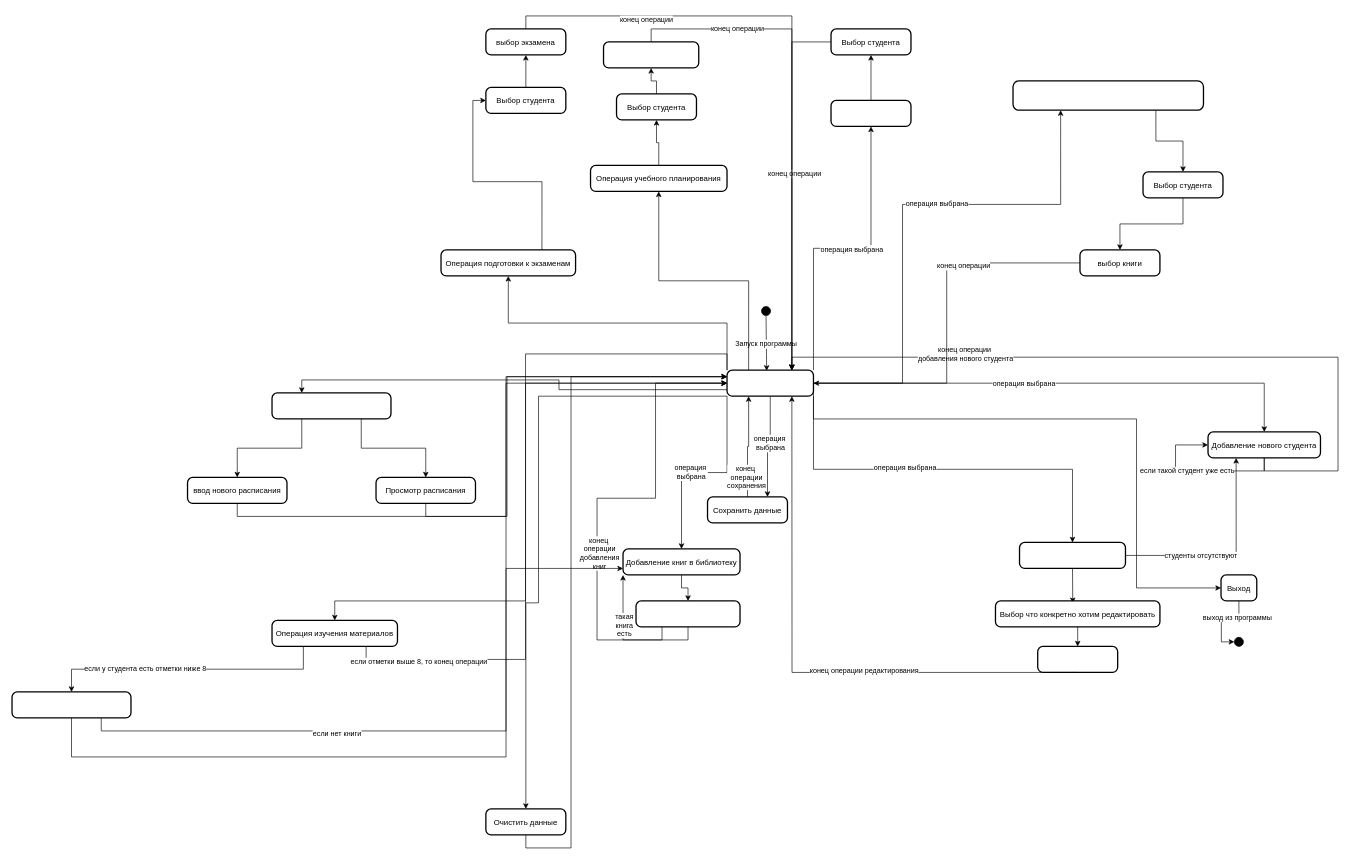
This 1355x864 diagram has some shape labels left out. The shapes that lost their labels are listed below. From the top down, each one's centre as x and y in pixels, then its label:
(651,54): составление расписания
(870,113): Удаление студента
(1108,95): Операция использования библиотечных ресурсов
(770,382): Выбор операции
(331,405): Операция посещения занятий
(1072,555): Редактирование студента
(687,613): добавление новой книги
(1077,659): Замена данных
(71,704): совет взять книгу с библиотеки
